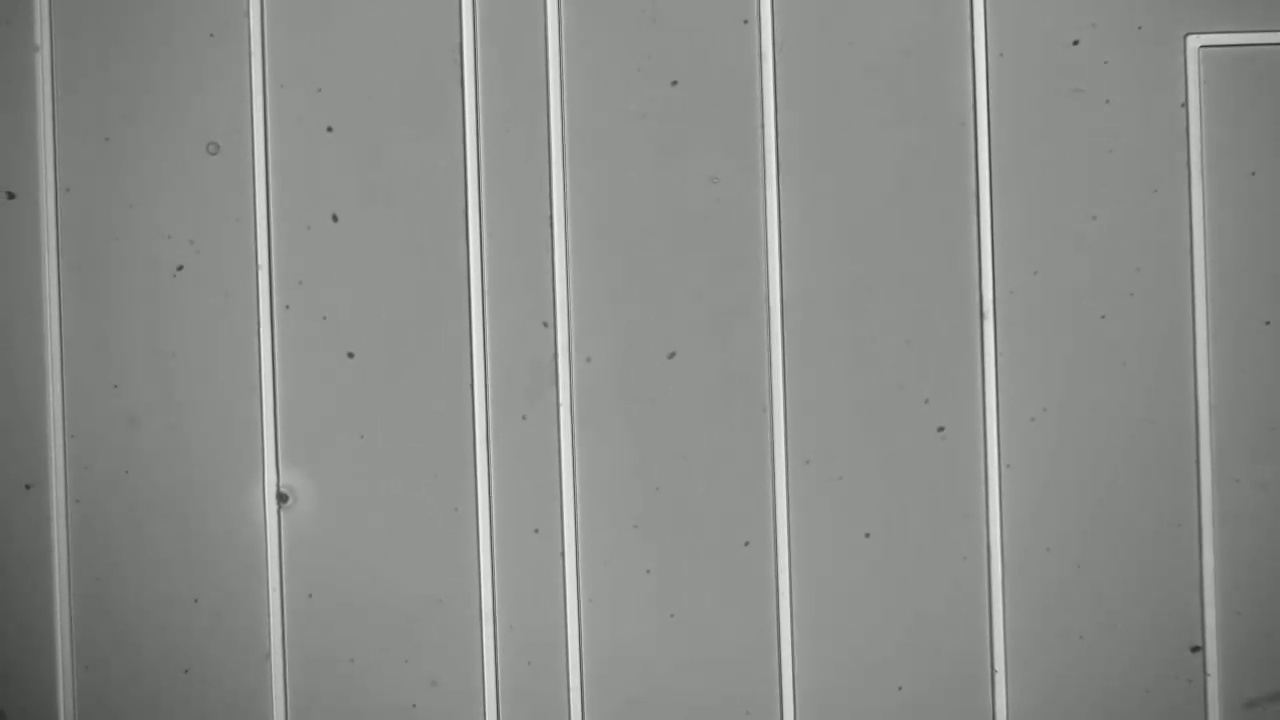stains_enbedded: (258, 478, 292, 519)
